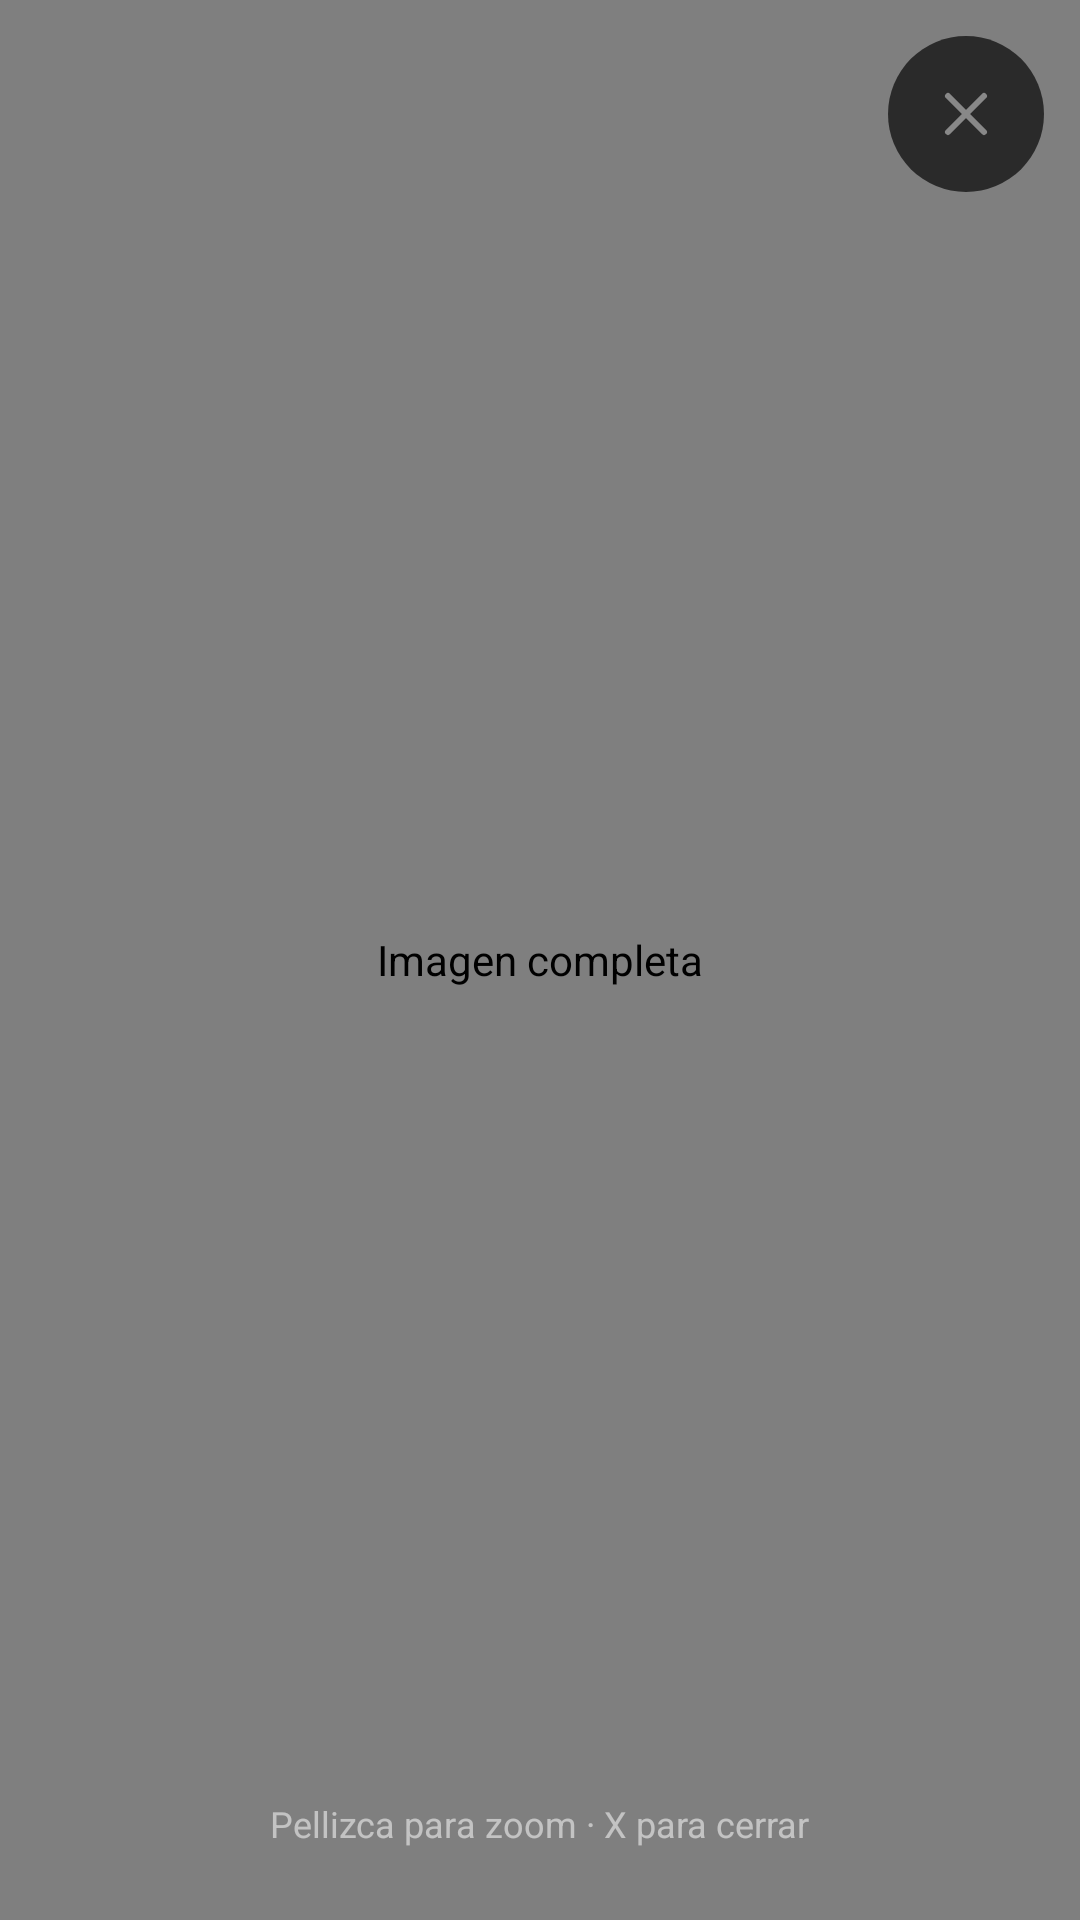

Icon click points for this 1080×1920 phone screenshot, format (x=x, y=y):
Cerrar: (x=966, y=114)
